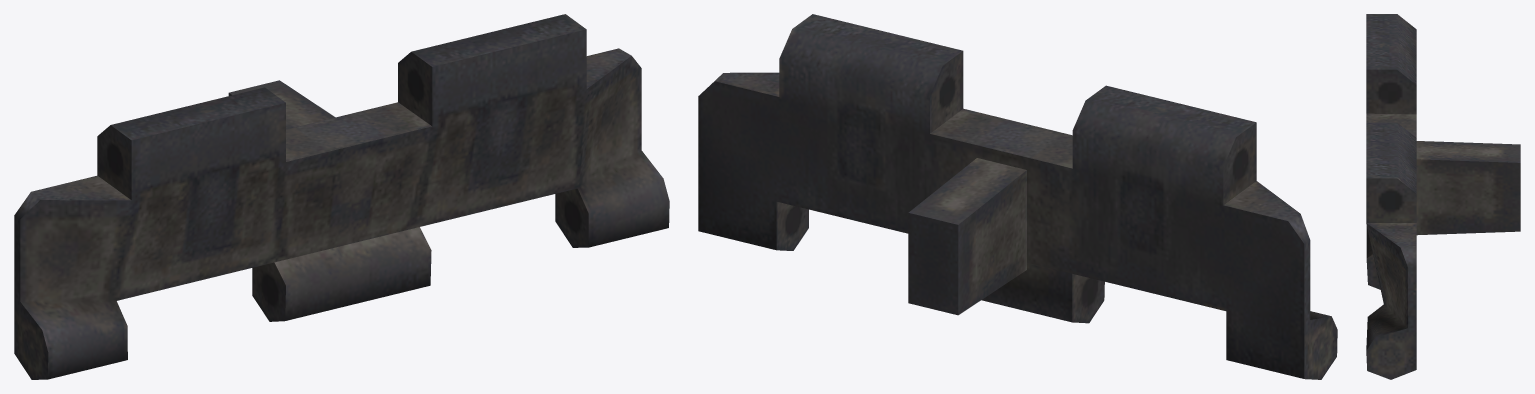
3 views of the same model, side by side, from view 1: azimuth 30°, elevation 25°; view 2: azimuth 150°, elevation 25°; view 3: azimuth 270°, elevation 25° (orthographic). The views are drawn at different scales.
Parts seen in each view (by area): view 1: set_0_group_0; view 2: set_0_group_0; view 3: set_0_group_0.
Part boxes in pixels (x1=…): set_0_group_0: x1=14, y1=14, x2=669, y2=379; set_0_group_0: x1=698, y1=14, x2=1337, y2=379; set_0_group_0: x1=1366, y1=14, x2=1520, y2=379.
Bounding box in the file's own units: 0.54 × 0.1923 × 0.1571.
Materials: 1 (1 with a texture image).
